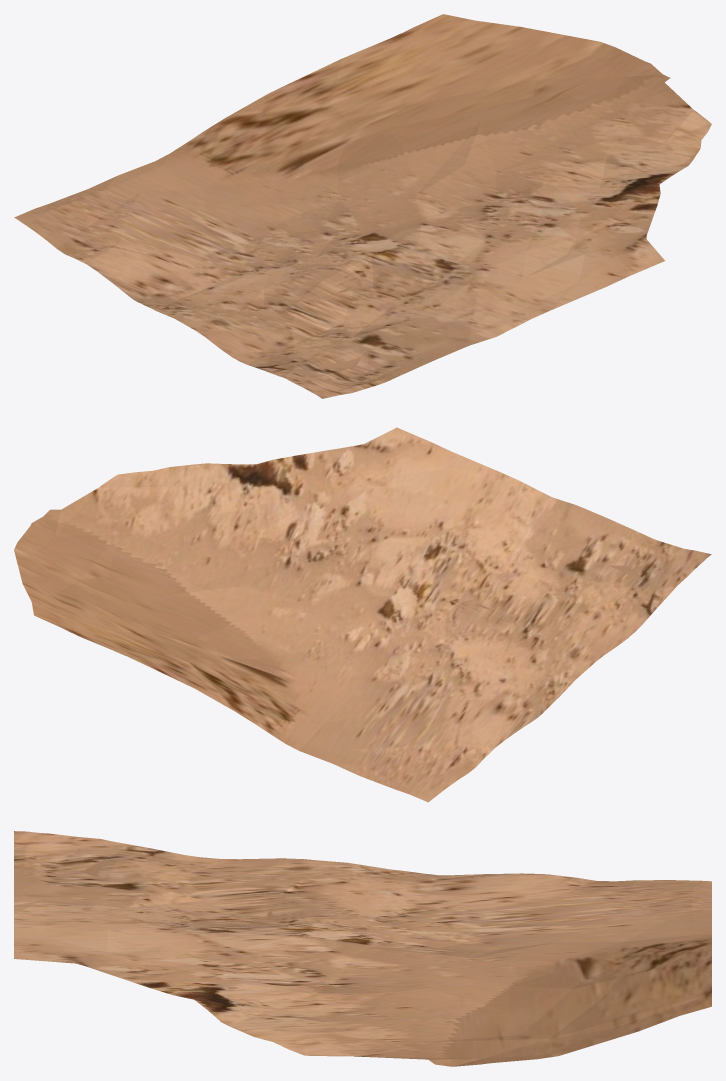
3 renders of one model, top to bottom at view 1: azimuth 30°, elevation 25°; view 2: azimuth 150°, elevation 25°; view 3: azimuth 270°, elevation 25°, orthographic. The views are drawn at different scales.
Size of the model in its own units: 2.09 by 0.3691 by 2.09.
2 materials, 2 textured.
